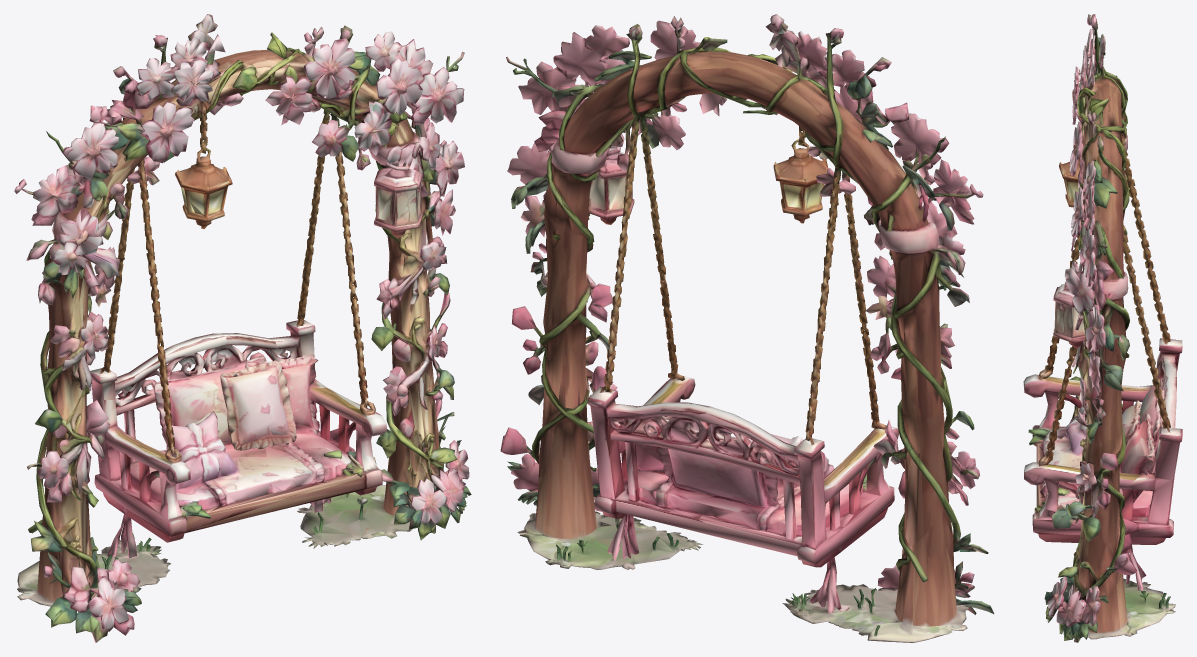
File: swing.glb
The picture shows the model from 3 angles, left to right: view 1: azimuth 30°, elevation 25°; view 2: azimuth 150°, elevation 25°; view 3: azimuth 270°, elevation 25°; orthographic projection. The views are drawn at different scales.
Visible parts, largest first — view 1: tripo_node_504f0a9f-53a9-45b3-8aa0-9888d057180c; view 2: tripo_node_504f0a9f-53a9-45b3-8aa0-9888d057180c; view 3: tripo_node_504f0a9f-53a9-45b3-8aa0-9888d057180c.
Part boxes in pixels (left/top/right/bottom): tripo_node_504f0a9f-53a9-45b3-8aa0-9888d057180c: left=14, top=14, right=471, bottom=642; tripo_node_504f0a9f-53a9-45b3-8aa0-9888d057180c: left=500, top=14, right=993, bottom=642; tripo_node_504f0a9f-53a9-45b3-8aa0-9888d057180c: left=1023, top=14, right=1182, bottom=642.
Bounding box in the file's own units: 0.8172 × 0.9796 × 0.2712.
Materials: 1 (1 with a texture image).
